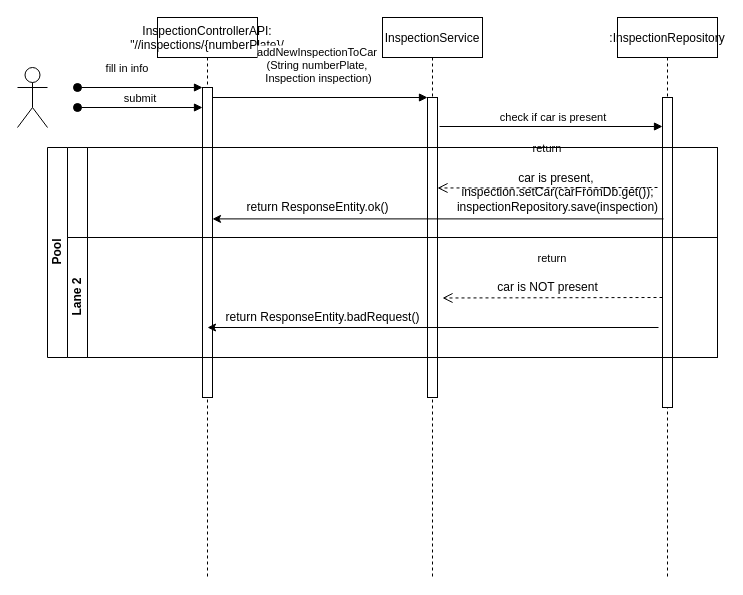
Image size: 743x595. Some labels were removed from this diagram. The shapes that lost their labels are listed below. From the top down, each one's box as (x1, y1, x2, y2) in pixels, then its label:
(16, 66, 48, 128): Actor
(66, 146, 718, 238): Lane 1
